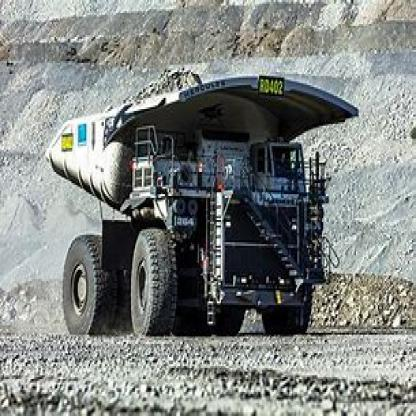dump_truck: (38, 63, 362, 338)
